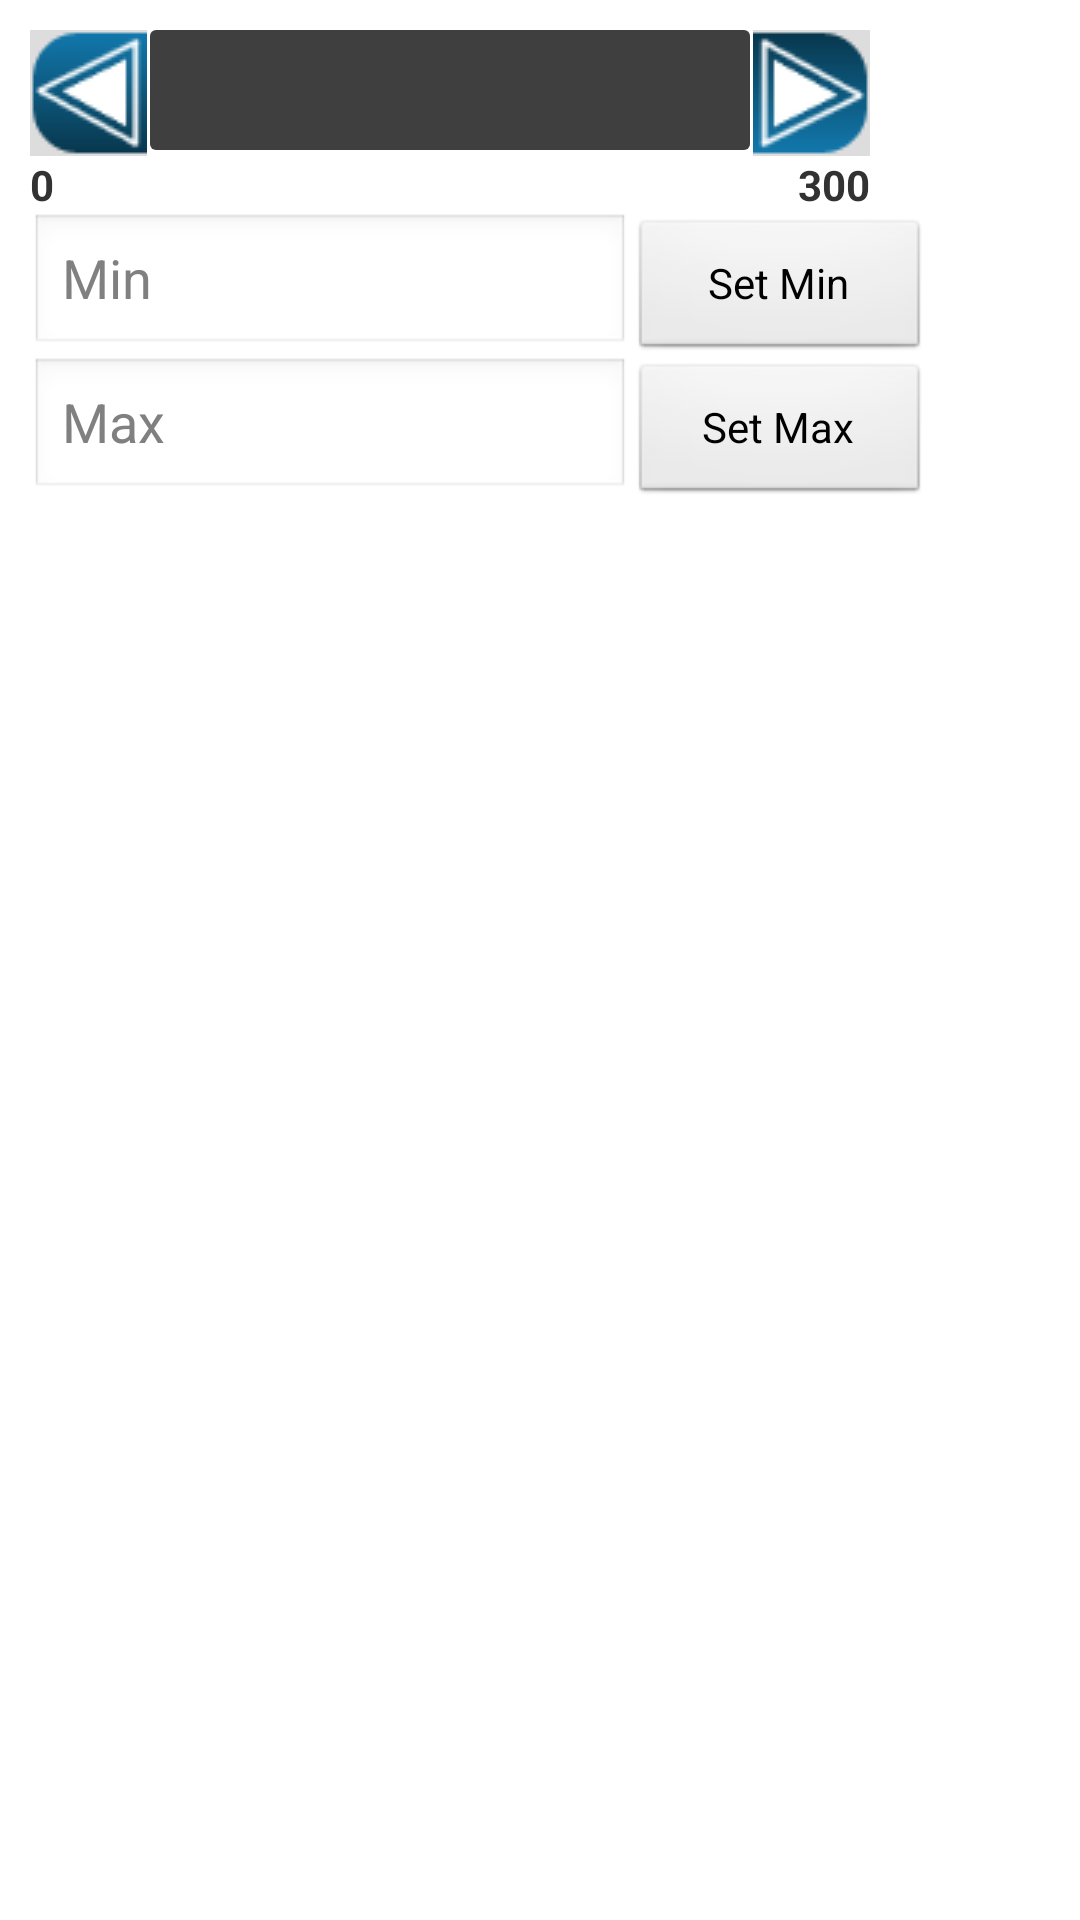

Named icons in this screenshot (1080*1920) and their centers, (x,y):
left arrow: (88,93)
right arrow: (811,93)
